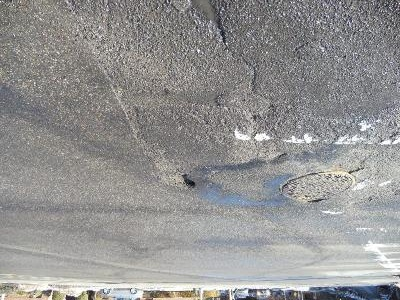pothole: (184, 0, 228, 42), (163, 171, 197, 190)
